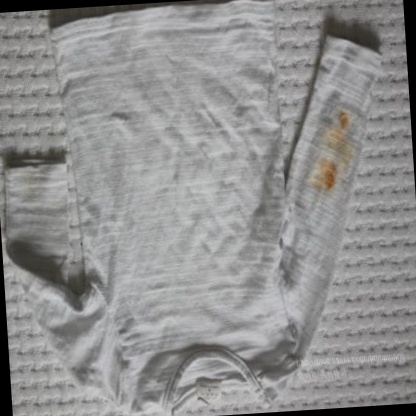kimchi: (304, 106, 365, 200), (318, 165, 341, 193), (339, 107, 359, 134)
